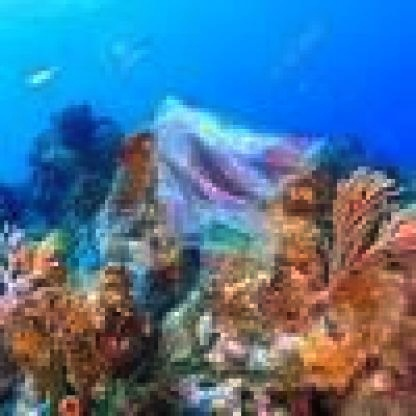pbag: (141, 92, 337, 291)
